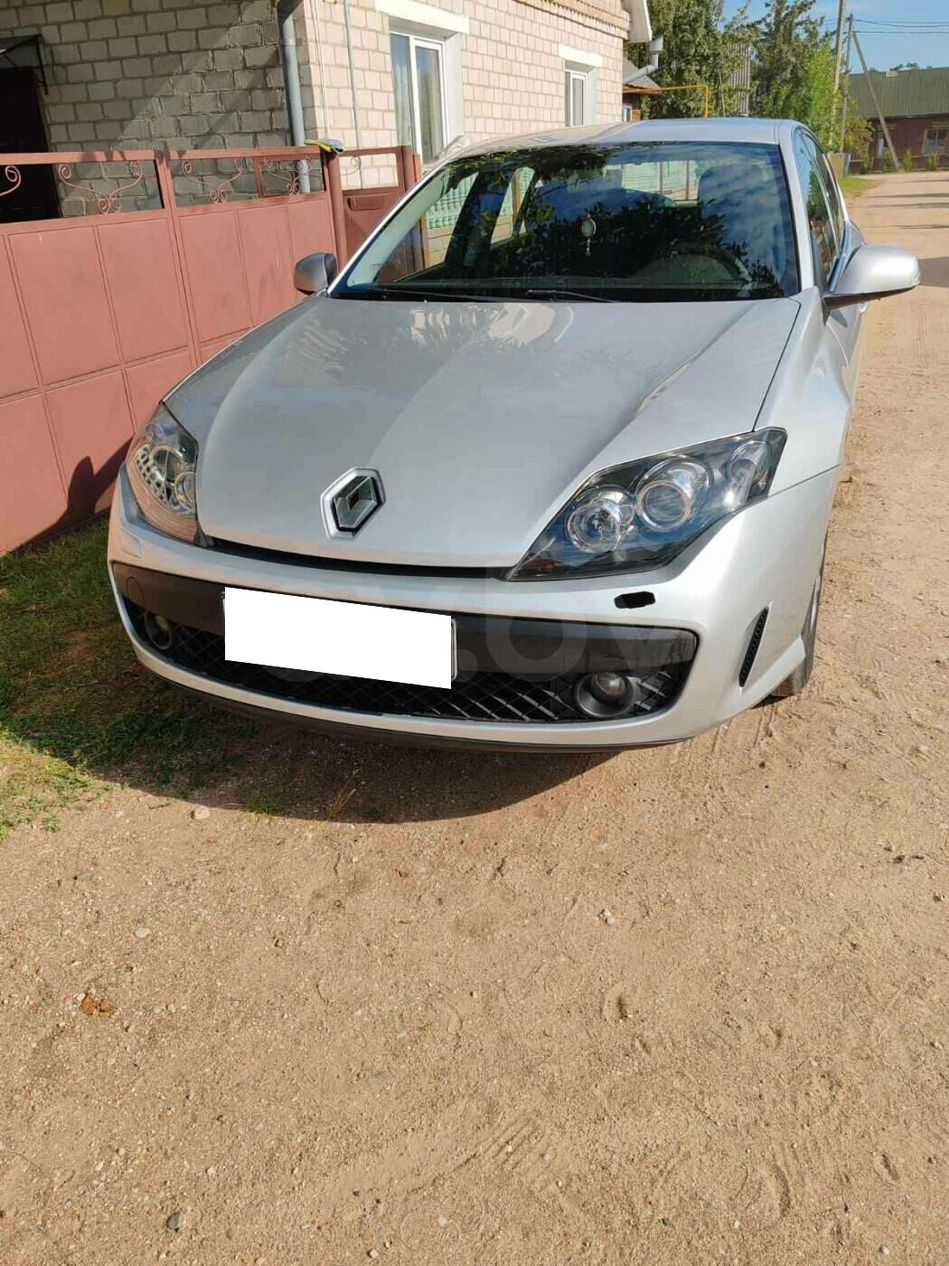Laguna_2007-2011: (108, 119, 919, 751)
